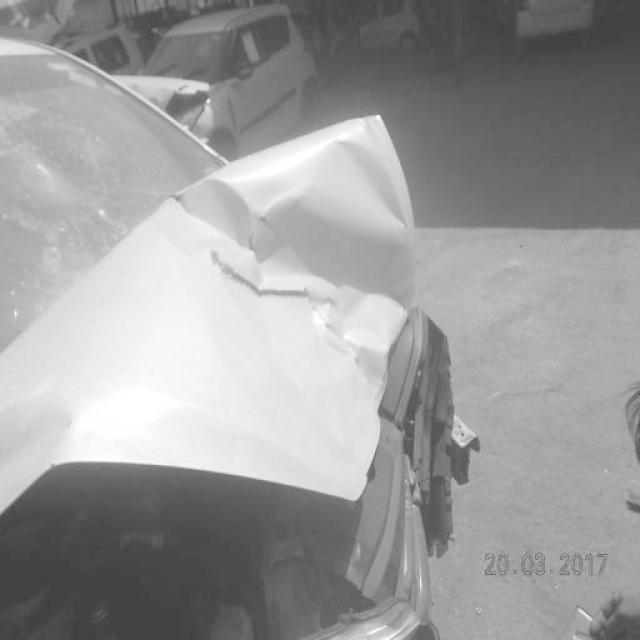car damage: (165, 115, 425, 363), (8, 102, 102, 244)
